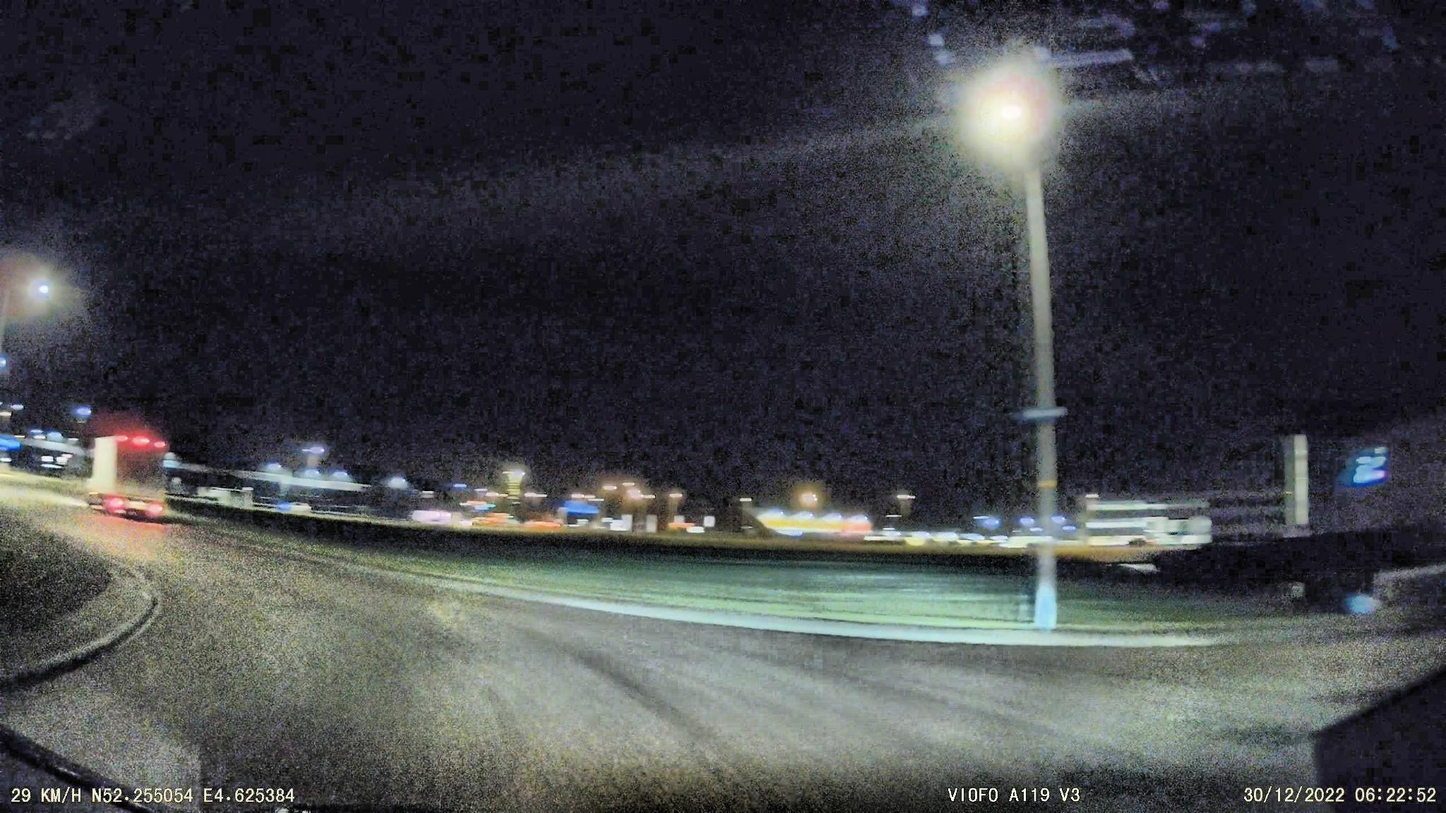Roads: (0, 488, 1446, 813)
